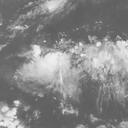cyclone: (18, 45, 75, 92)
